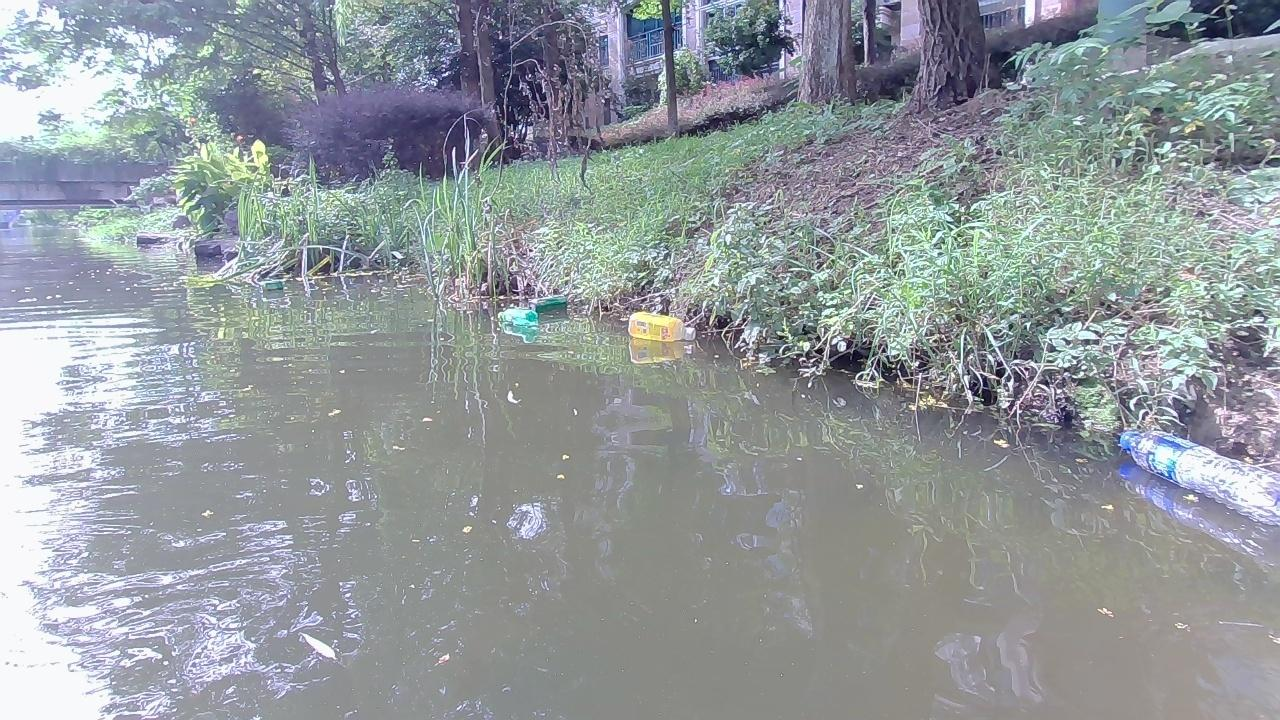bottle: (1116, 424, 1279, 525), (624, 311, 698, 346), (489, 309, 540, 336), (531, 297, 566, 317), (258, 281, 286, 297)
